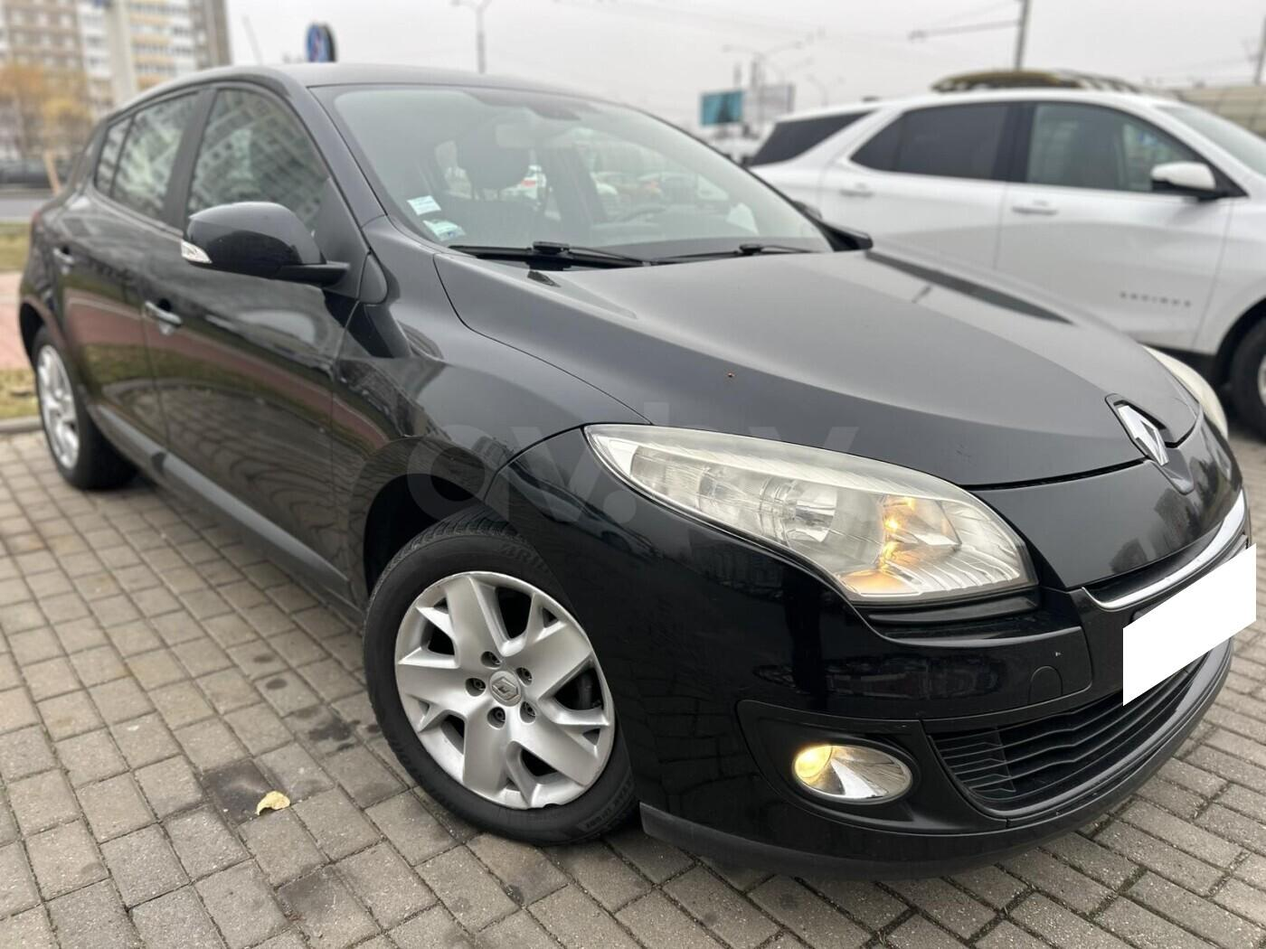Megane_2008-2014: (14, 62, 1243, 865)
